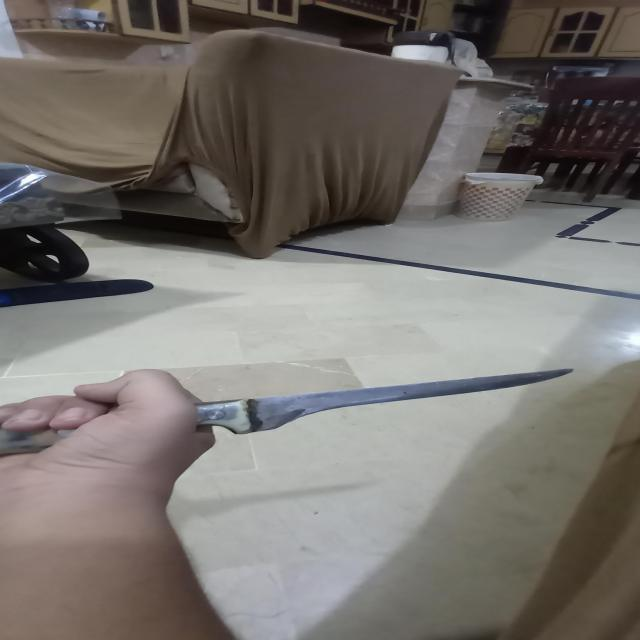knife: (1, 361, 599, 454)
